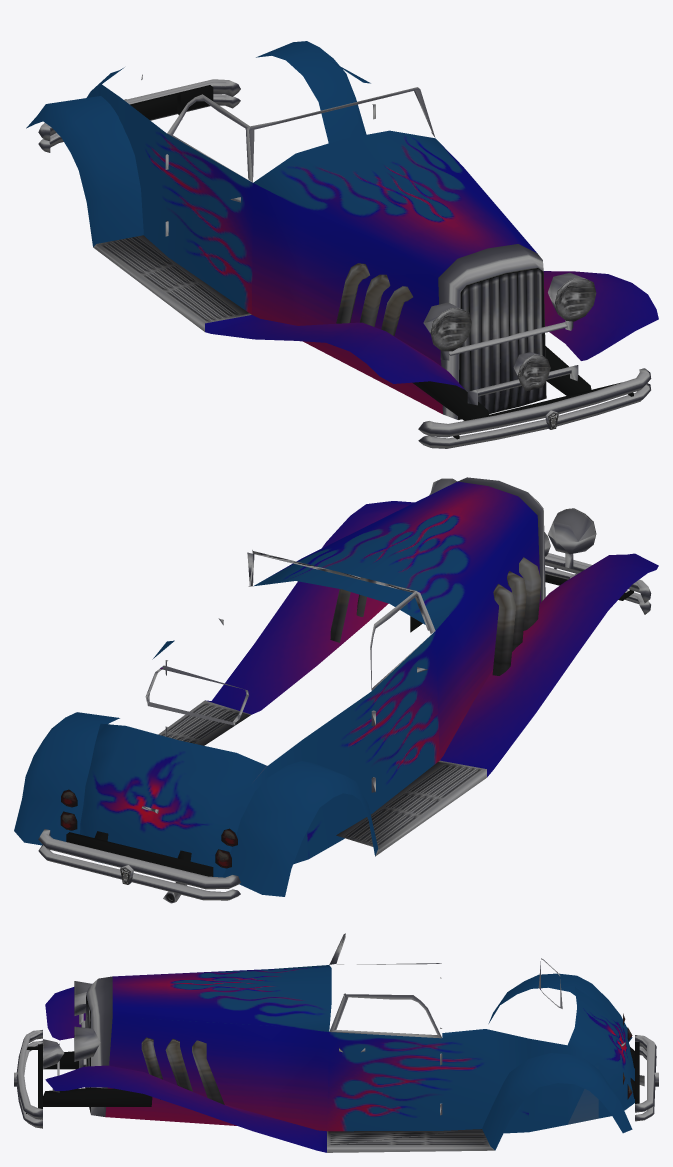
File: car-COMP_Car27.glb
3 renders of one model, top to bottom at view 1: azimuth 30°, elevation 25°; view 2: azimuth 150°, elevation 25°; view 3: azimuth 270°, elevation 25°, orthographic. The views are drawn at different scales.
Visible parts, largest first — view 1: COMP_Car27; view 2: COMP_Car27; view 3: COMP_Car27.
Part boxes in pixels (bbox=[...]): COMP_Car27: bbox=[26, 41, 658, 448]; COMP_Car27: bbox=[14, 477, 658, 903]; COMP_Car27: bbox=[14, 933, 658, 1152].
Size of the model in its own units: 1.87 by 1.17 by 4.91.
Materials: 3 (3 with a texture image).
